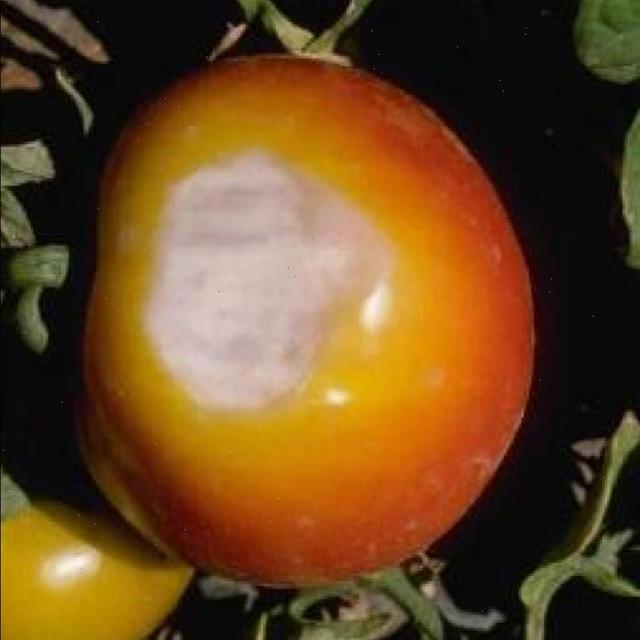Sunscald Fruit: (86, 104, 268, 300)
